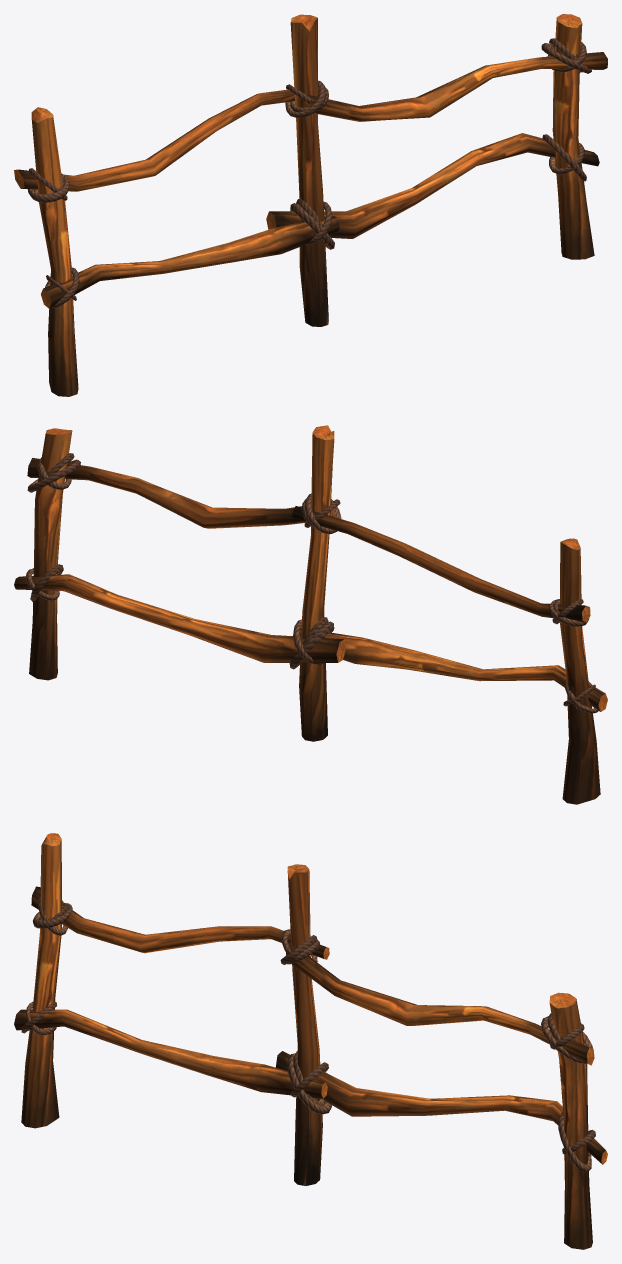
Rendered from fence02.FBX.
3 views of the same model, one above another, from view 1: azimuth 30°, elevation 25°; view 2: azimuth 150°, elevation 25°; view 3: azimuth 330°, elevation 25° (orthographic).
Visible parts, largest first — view 1: fence_02; view 2: fence_02; view 3: fence_02.
Boxes of the visible parts, x1,y1,x2,y2 form: fence_02: (14,14,607,396); fence_02: (14,425,607,804); fence_02: (14,833,607,1249).
Bounding box in the file's own units: 264 × 135 × 33.4.
